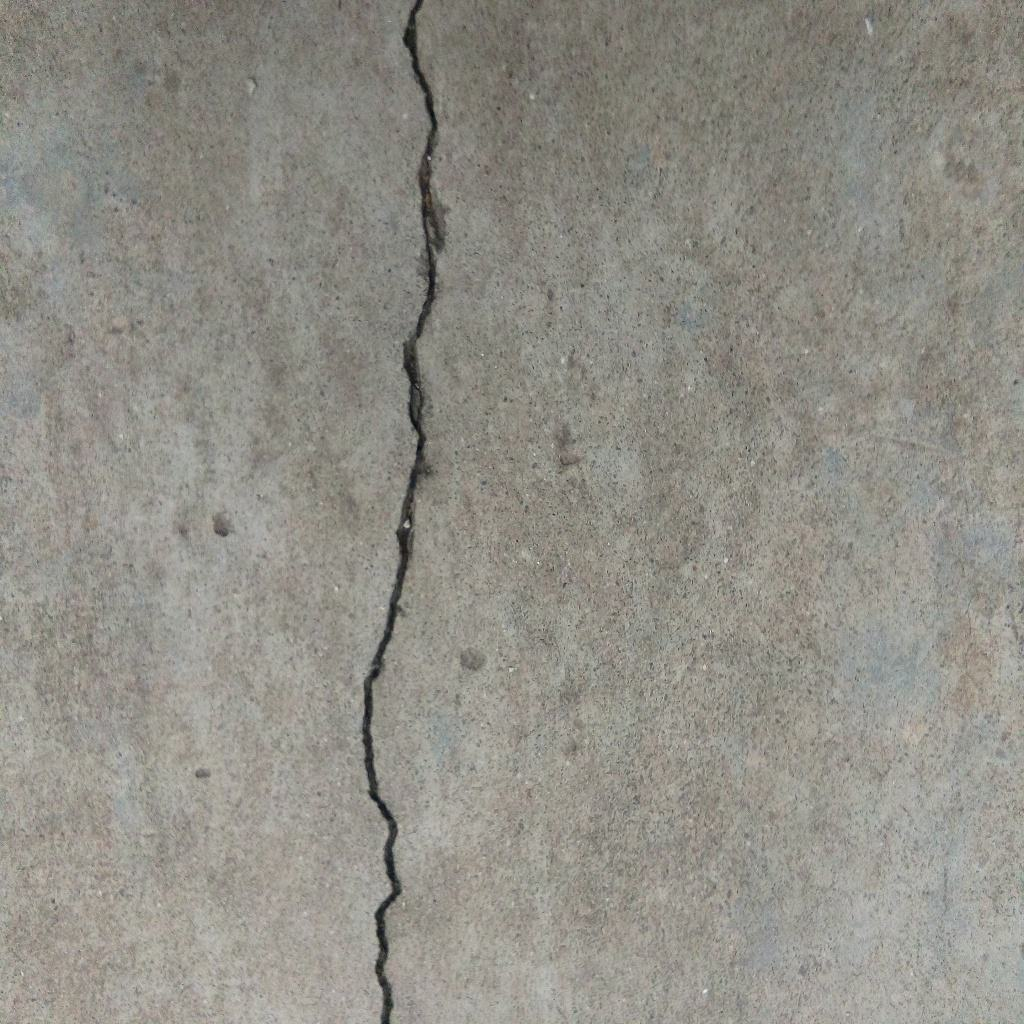Crack: (359, 1, 445, 1024)
